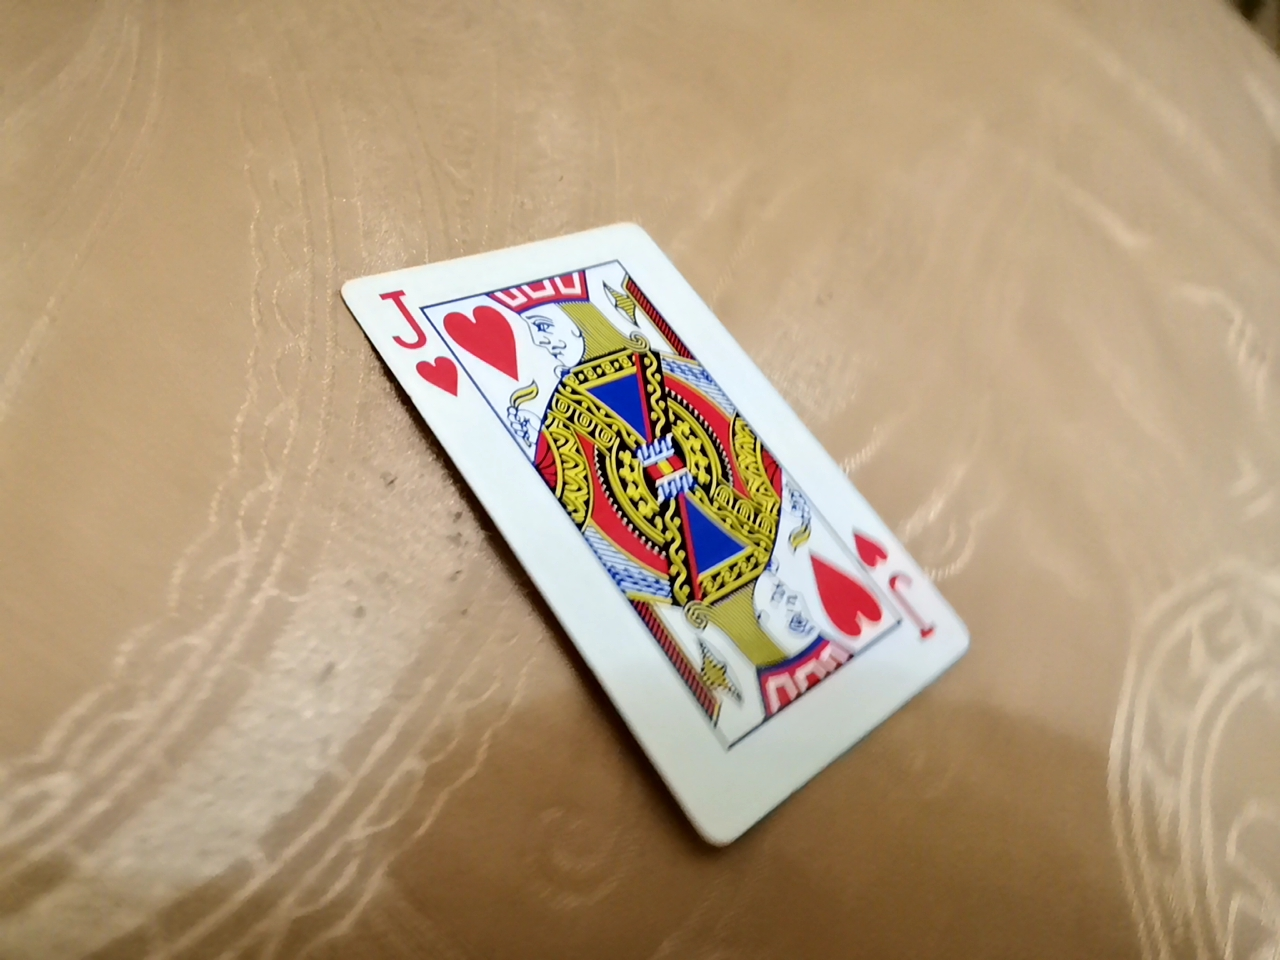hx j: (331, 211, 978, 831)
